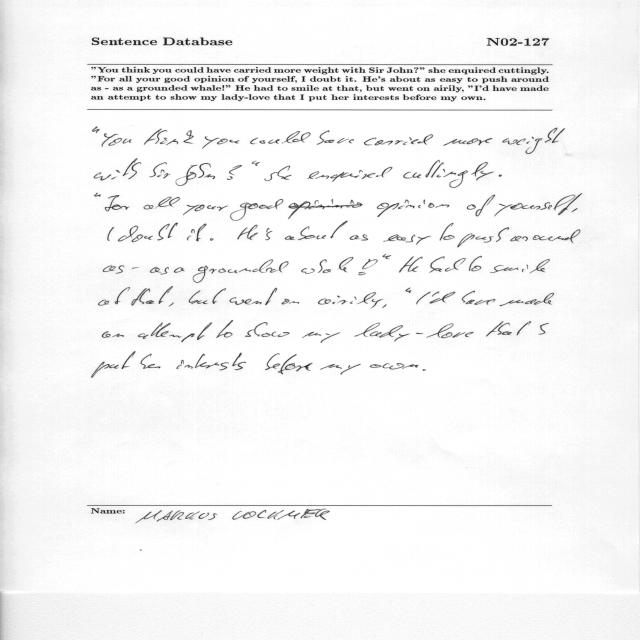word: (230, 199, 363, 221), (403, 160, 494, 188), (193, 259, 289, 283), (355, 323, 474, 342), (495, 193, 583, 216), (502, 128, 565, 154), (138, 322, 212, 342), (308, 167, 393, 182), (176, 353, 246, 371), (377, 200, 449, 217), (285, 221, 348, 240), (92, 352, 136, 378), (118, 223, 178, 242), (458, 228, 510, 248), (318, 292, 383, 308), (94, 159, 141, 181), (265, 353, 313, 374), (511, 229, 581, 243), (176, 163, 215, 186), (301, 257, 353, 274), (490, 259, 550, 273), (131, 286, 173, 306), (144, 129, 194, 145), (230, 288, 277, 305), (250, 131, 311, 144), (364, 135, 433, 146), (486, 321, 531, 337), (500, 293, 554, 306), (245, 322, 290, 337), (429, 256, 466, 273), (467, 195, 495, 217), (189, 288, 226, 304), (98, 287, 130, 305), (317, 130, 354, 145), (384, 234, 432, 245), (203, 136, 240, 149), (143, 197, 180, 210), (462, 291, 495, 305), (320, 364, 361, 375), (183, 205, 228, 215), (105, 195, 130, 212), (102, 133, 132, 147), (302, 332, 340, 343), (399, 256, 423, 273), (265, 166, 292, 181), (443, 138, 492, 146), (187, 224, 206, 242), (150, 163, 171, 179), (370, 363, 418, 370), (358, 259, 378, 275), (237, 225, 258, 240), (430, 292, 456, 304), (216, 320, 233, 338), (141, 354, 161, 369), (440, 223, 455, 240), (227, 165, 242, 180), (469, 256, 482, 271), (416, 292, 431, 305), (104, 265, 125, 274), (102, 331, 124, 338), (150, 267, 169, 275), (350, 234, 368, 241), (538, 323, 549, 334), (282, 299, 300, 305), (108, 227, 114, 241), (266, 228, 273, 240), (174, 267, 185, 273), (382, 254, 391, 259), (93, 127, 100, 133), (252, 161, 260, 166), (405, 288, 412, 293), (94, 193, 101, 197), (572, 208, 578, 212), (382, 304, 387, 308), (169, 303, 173, 307), (132, 267, 139, 269), (210, 238, 214, 241), (498, 175, 502, 177), (423, 369, 426, 371)
